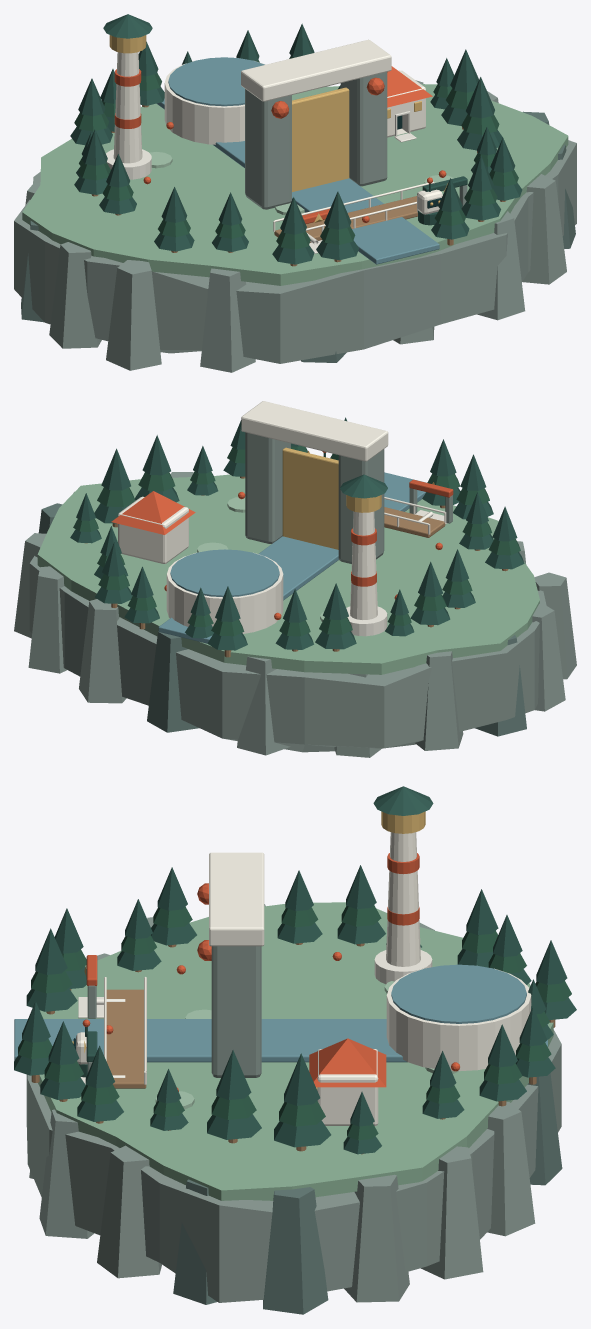
File: chapter-04.glb
3 views of the same model, one above another, from view 1: azimuth 30°, elevation 25°; view 2: azimuth 150°, elevation 25°; view 3: azimuth 270°, elevation 25° (orthographic). The views are drawn at different scales.
Parts seen in each view (by area): view 1: terrain, rock_base, gate_valve, gate_beam, canal, landmark_gates, cliff_facet_10, landmark_gates.001, cliff_facet_11, cliff_facet_09, cliff_facet_15, reservoir_water (+37 smaller); view 2: terrain, rock_base, gate_valve, gate_beam, reservoir_water, landmark_gates.001, canal, cliff_facet_03, landmark_reservoir, cliff_facet_07, cliff_facet_02, cliff_facet_04 (+33 smaller); view 3: terrain, rock_base, canal, cliff_facet_00, reservoir_water, landmark_gates.001, landmark_reservoir, cliff_facet_01, cliff_facet_15, gate_beam, cliff_facet_02, cliff_facet_03 (+39 smaller).
Part boxes in pixels (box(x1,y1,x2,y2)): terrain: box(22, 84, 568, 285); rock_base: box(14, 140, 576, 363); gate_valve: box(292, 87, 349, 191); gate_beam: box(241, 39, 391, 101); canal: box(156, 98, 439, 264); landmark_gates: box(245, 89, 291, 209); cliff_facet_10: box(106, 260, 161, 370); landmark_gates.001: box(340, 72, 387, 186); cliff_facet_11: box(200, 268, 255, 372); cliff_facet_09: box(49, 242, 101, 348); cliff_facet_15: box(522, 174, 566, 284); reservoir_water: box(168, 57, 264, 106); terrain: box(37, 474, 539, 674); rock_base: box(29, 491, 546, 752); gate_valve: box(282, 447, 338, 549); gate_beam: box(241, 401, 388, 461); reservoir_water: box(170, 549, 279, 597); landmark_gates.001: box(245, 432, 290, 543); canal: box(158, 472, 425, 643); cliff_facet_03: box(79, 599, 126, 703); landmark_reservoir: box(166, 552, 283, 633); cliff_facet_07: box(415, 651, 463, 750); cliff_facet_02: box(28, 566, 66, 673); cliff_facet_04: box(147, 631, 199, 732); terrain: box(38, 902, 553, 1200); rock_base: box(26, 1030, 561, 1302); canal: box(14, 1019, 547, 1062); cliff_facet_00: box(263, 1187, 328, 1314); reservoir_water: box(391, 964, 526, 1023); landmark_gates.001: box(211, 946, 261, 1077); landmark_reservoir: box(386, 968, 531, 1071); cliff_facet_01: box(344, 1174, 409, 1302); cliff_facet_15: box(97, 1145, 161, 1278); gate_beam: box(209, 852, 264, 946); cliff_facet_02: box(421, 1146, 483, 1279); cliff_facet_03: box(487, 1102, 535, 1236).
Bounding box in the file's own units: 13.06 × 6.39 × 10.12.
